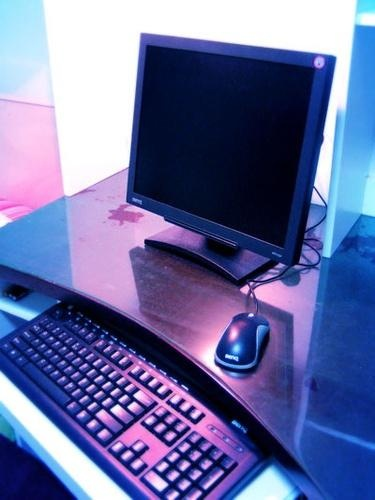tvmonitor: (126, 33, 337, 289)
